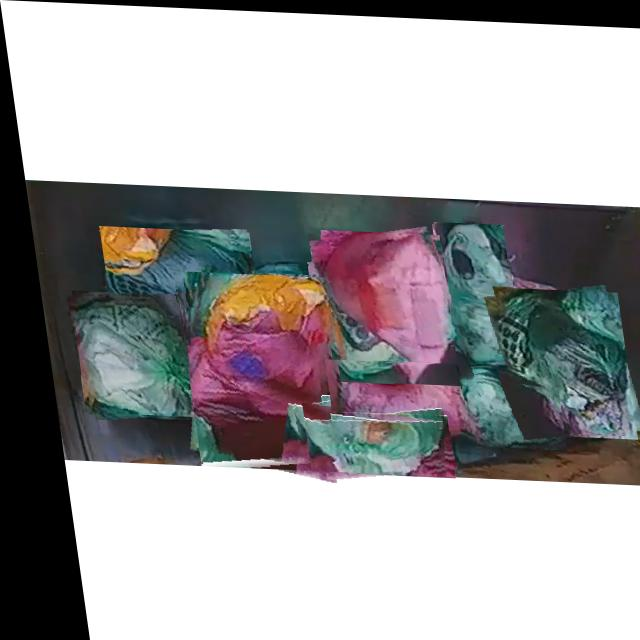general_trashbag: (488, 288, 616, 431), (62, 297, 191, 415), (99, 232, 247, 312), (436, 221, 509, 361), (444, 373, 551, 444), (293, 416, 431, 471), (249, 263, 328, 352), (304, 233, 374, 326)
other_trashbag: (179, 274, 330, 465), (317, 231, 441, 379), (315, 358, 455, 437)
